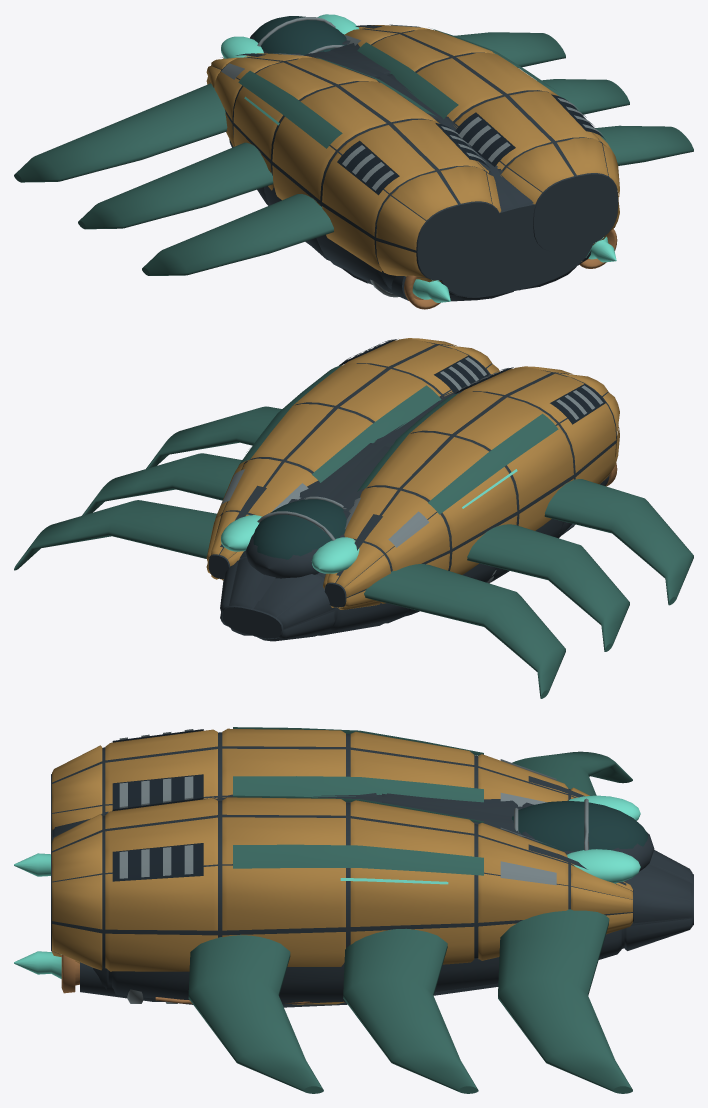
Rendered from scarab.glb.
3 views of the same model, one above another, from view 1: azimuth 30°, elevation 25°; view 2: azimuth 150°, elevation 25°; view 3: azimuth 270°, elevation 25° (orthographic). The views are drawn at different scales.
Visible parts, largest first — view 1: scarab; view 2: scarab; view 3: scarab.
Boxes of the visible parts, x1,y1,x2,y2 form: scarab: [14, 14, 693, 309]; scarab: [14, 338, 693, 698]; scarab: [14, 727, 693, 1093].
Bounding box in the file's own units: 8.7 × 2.5 × 8.05.
